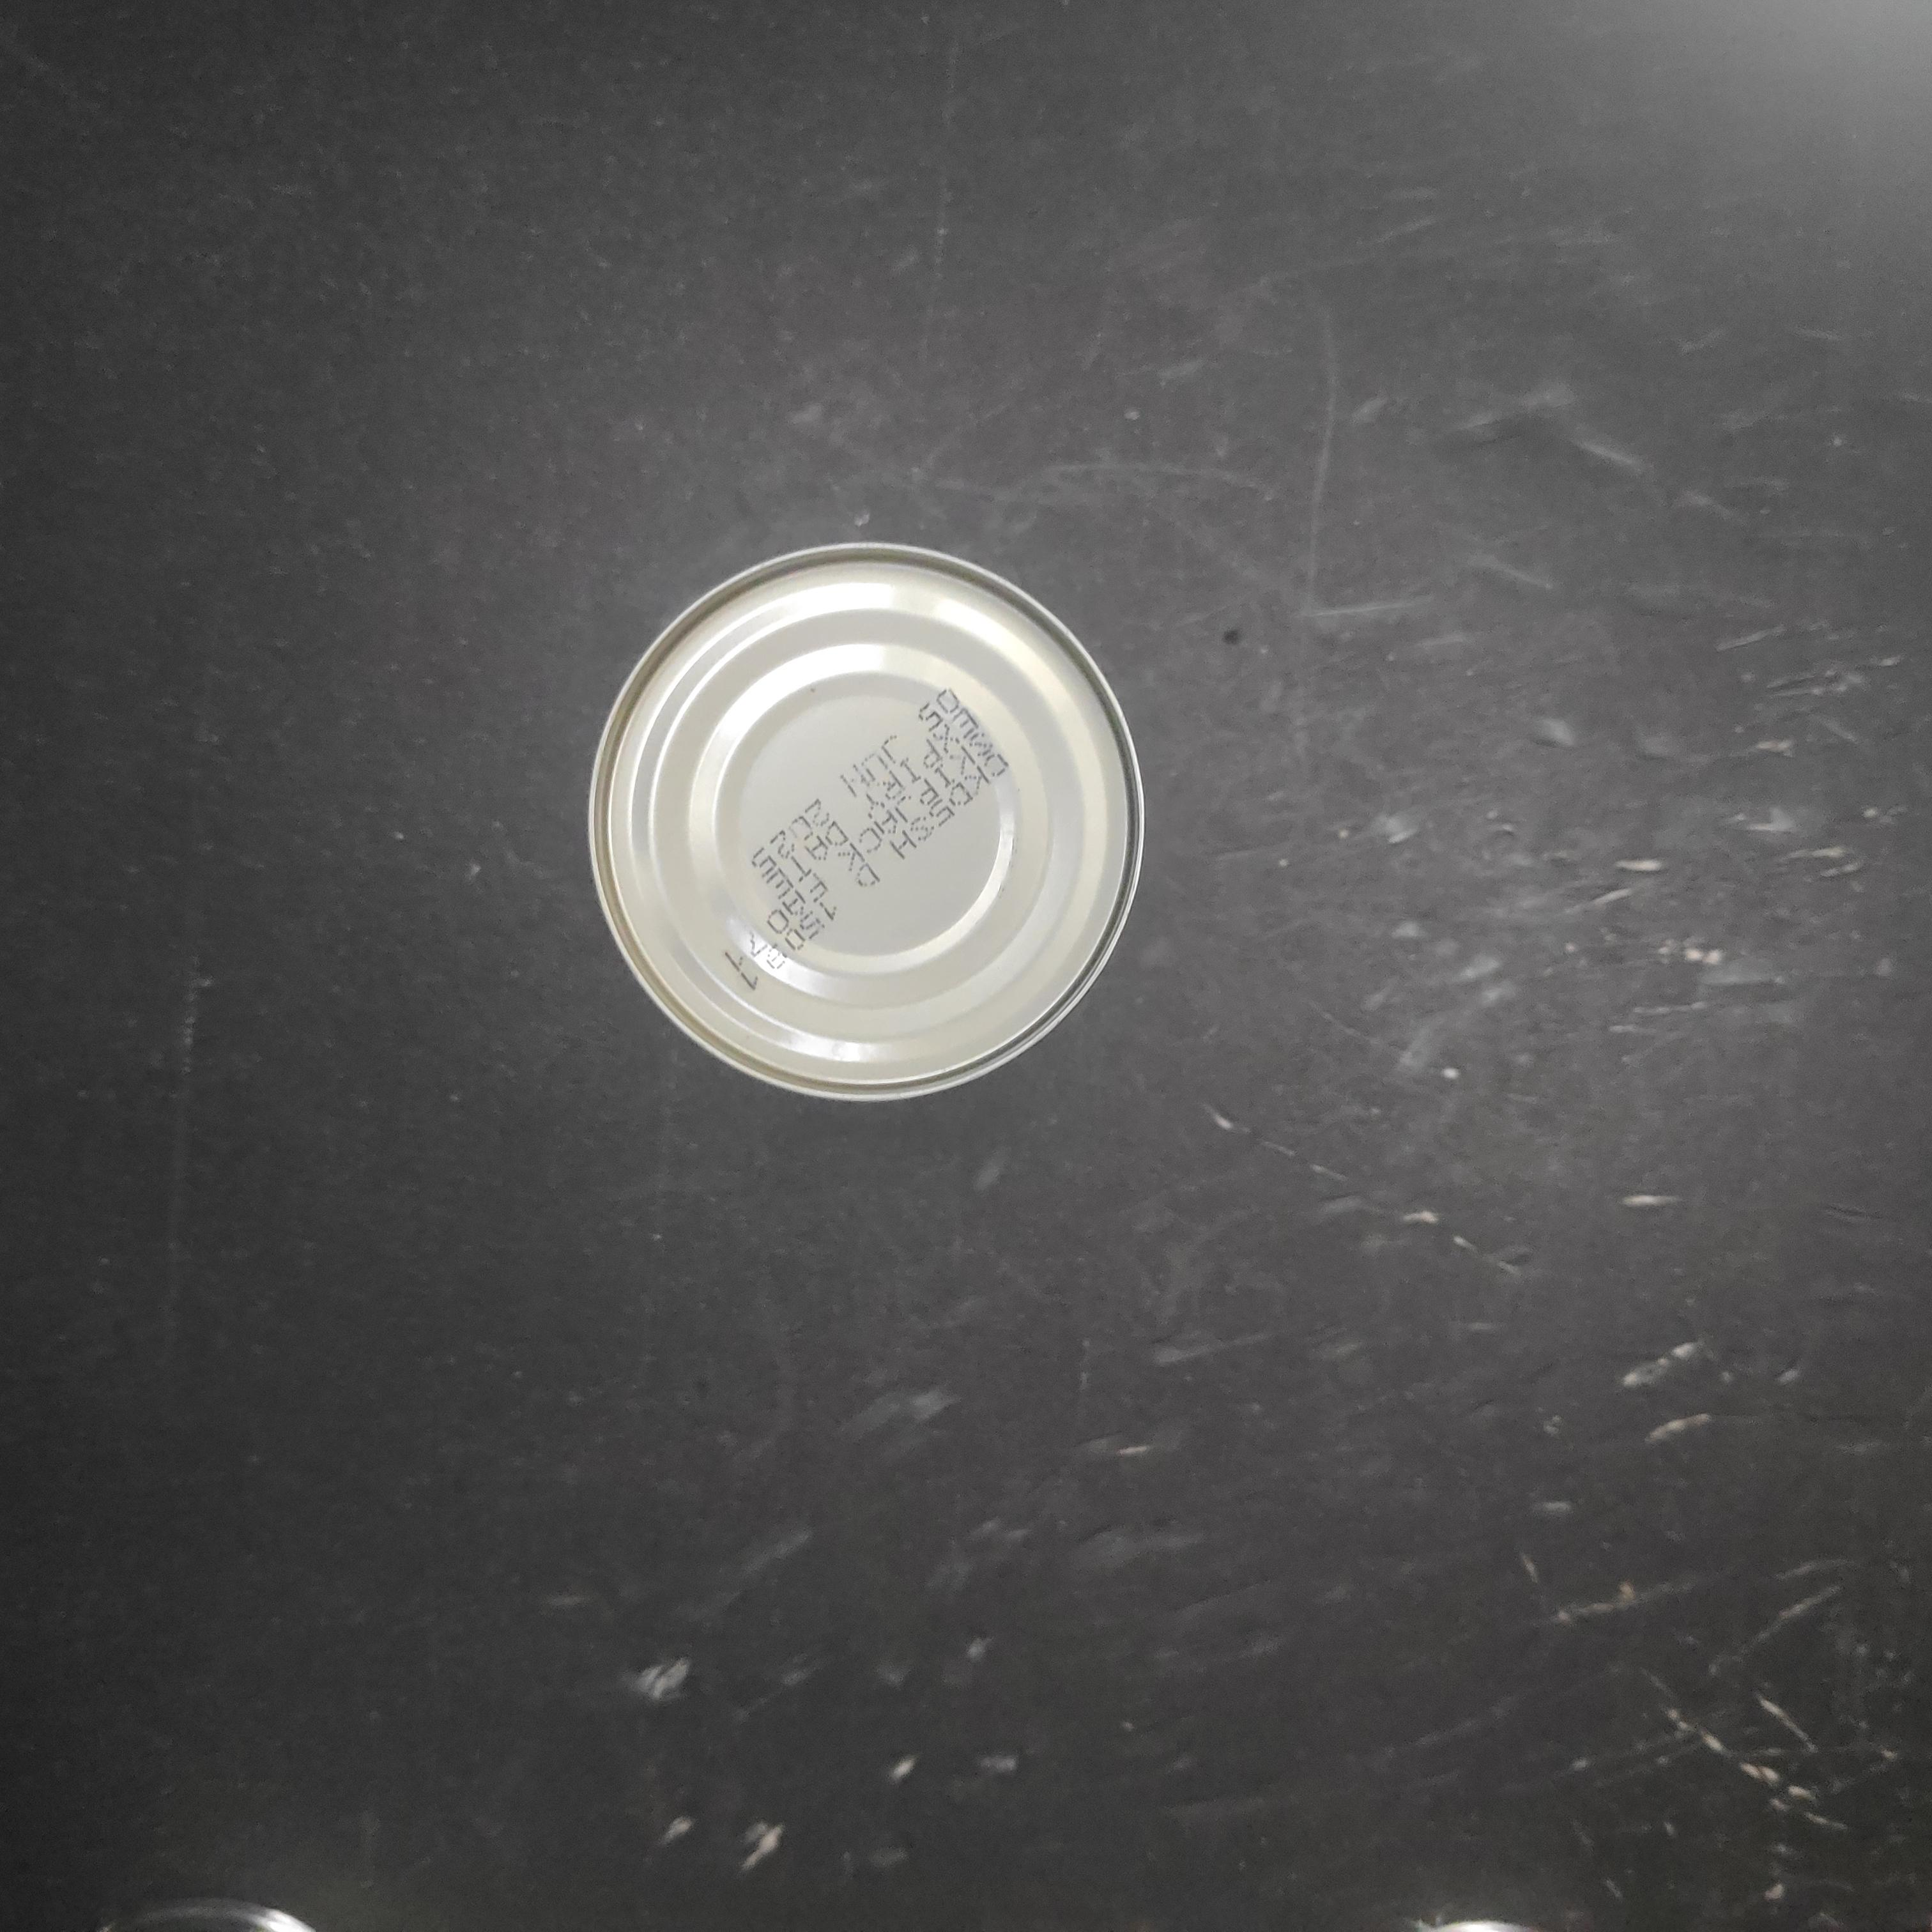No defect: (783, 829, 1349, 1393)
